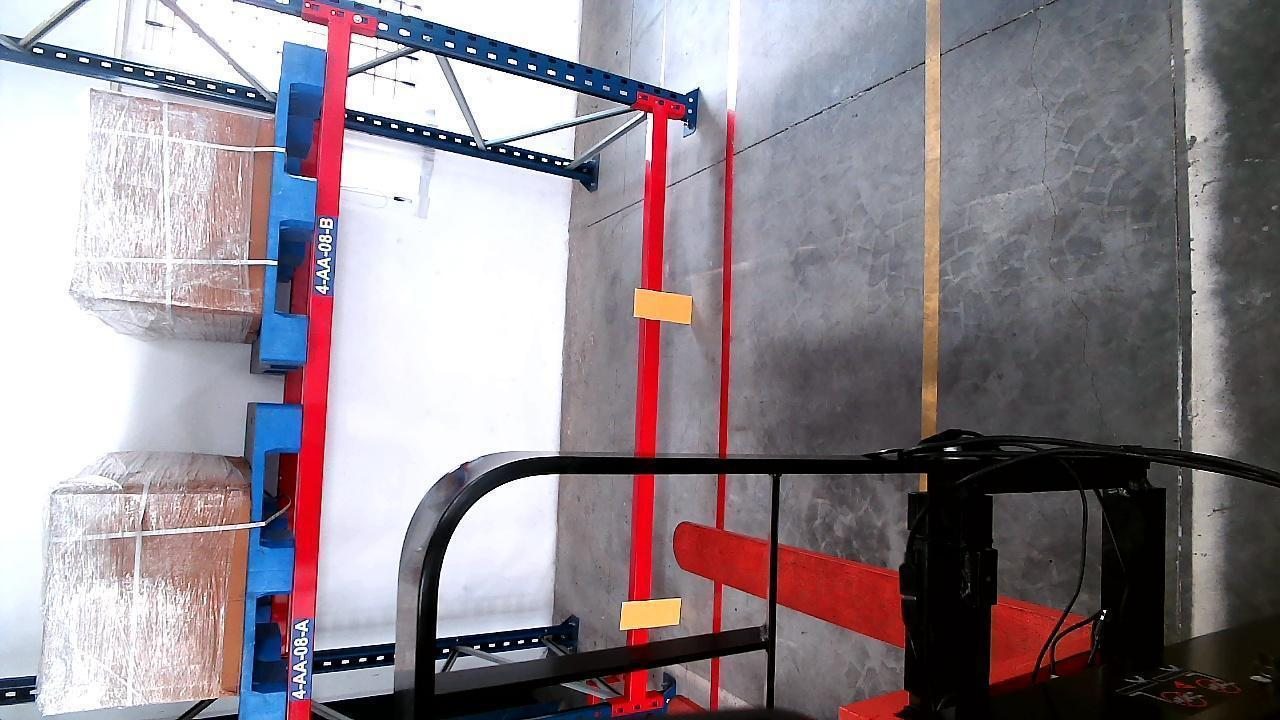red_line: (705, 0, 743, 718)
yellow_line: (921, 4, 945, 426)
